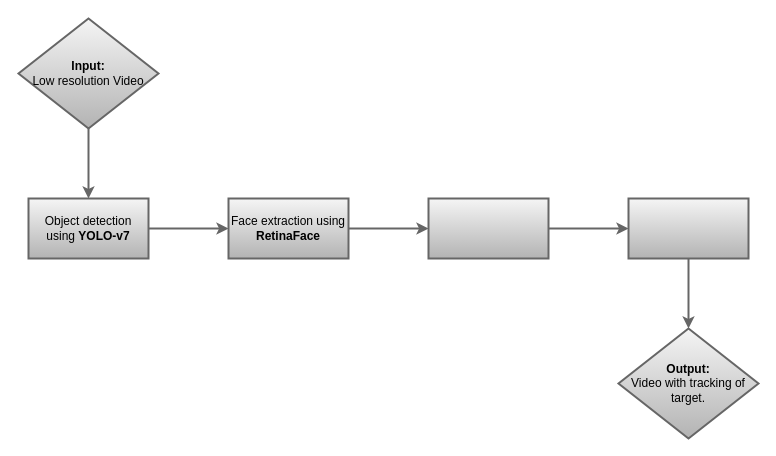
This 776x456 diagram has some shape labels left out. Here are the shapes that lost their labels. From the top down, the centre of each, then its label:
At point (488, 228): "Face feature enhancement using SwinIR".
At point (688, 228): "Face verification using ArcFace".
